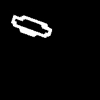chain: (11, 15, 51, 37)
